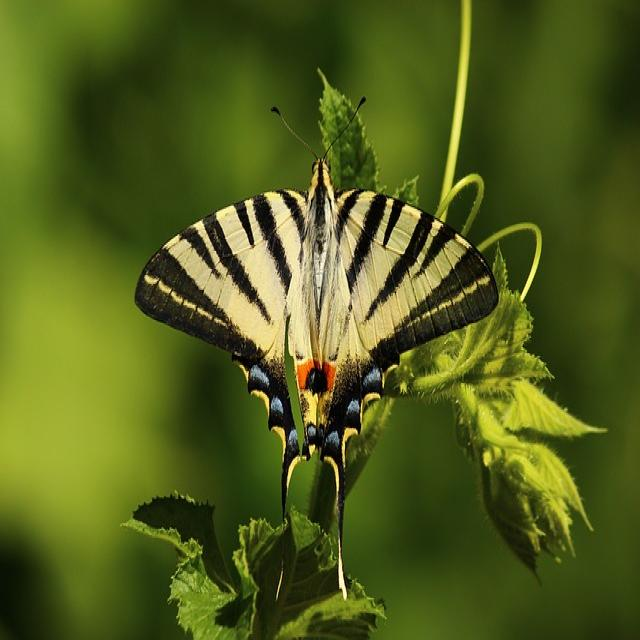butterfly: (135, 160, 498, 594)
